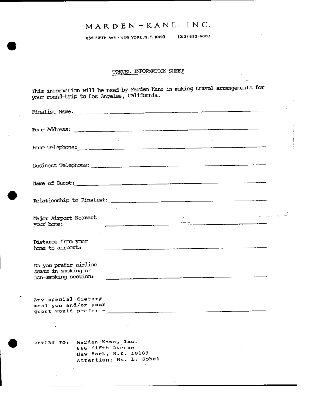textline: (101, 238, 267, 251), (103, 267, 267, 279), (104, 215, 267, 227), (104, 302, 266, 314), (74, 176, 267, 186), (76, 105, 267, 115), (89, 159, 267, 169), (107, 193, 267, 204), (73, 124, 267, 133), (76, 143, 266, 151)
